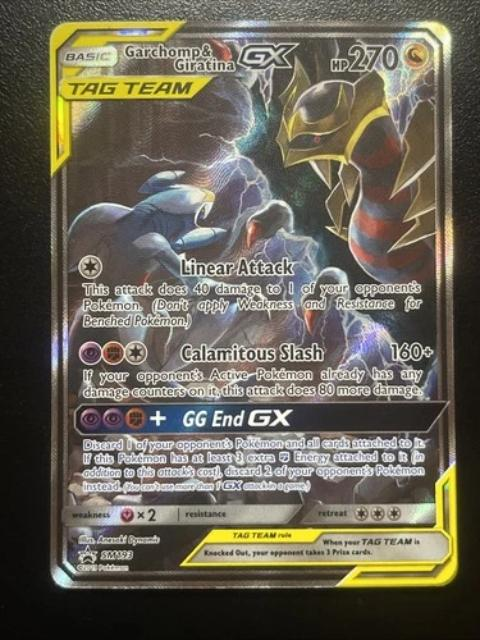Card: (44, 15, 463, 593)
Name: (118, 40, 310, 78)
